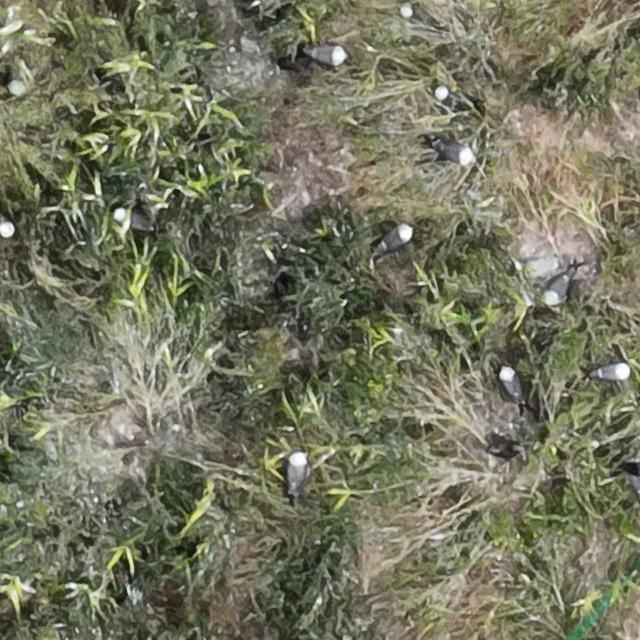umineko: (544, 273, 572, 305), (288, 452, 308, 492), (116, 212, 156, 232), (380, 226, 413, 250), (500, 367, 522, 402), (436, 143, 472, 164), (308, 46, 345, 65), (595, 363, 629, 381), (435, 86, 453, 105), (628, 474, 639, 503), (0, 215, 13, 237)
